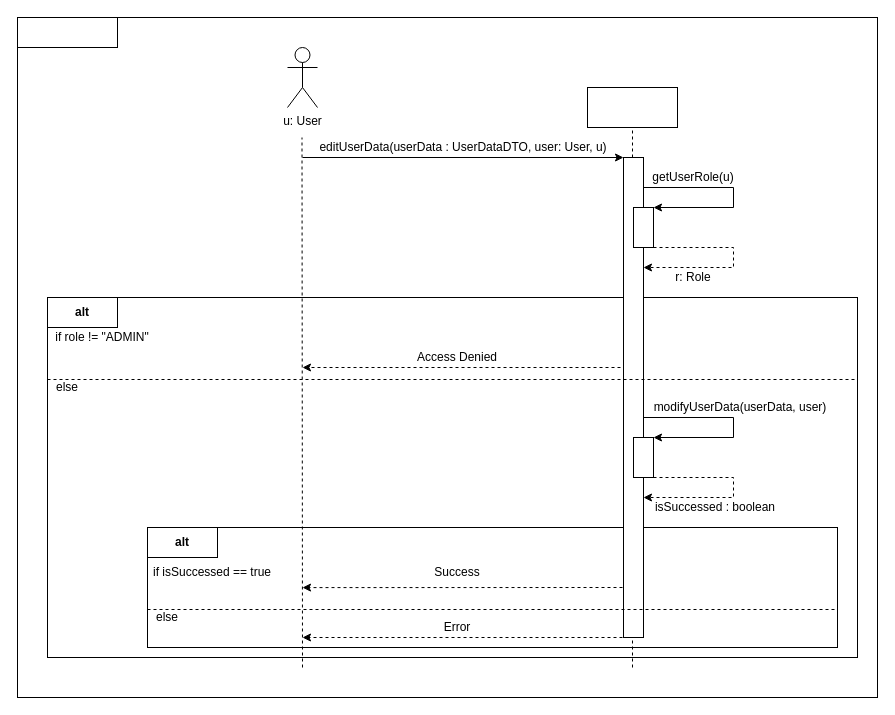
Image size: 895x715. Some labels were removed from this diagram. Here are the shapes that lost their labels. From the top down, the centre of each, then its label:
At pixel 67 32: "editUserData".
At pixel 632 107: "f: Felhasználói adatkezelő".
